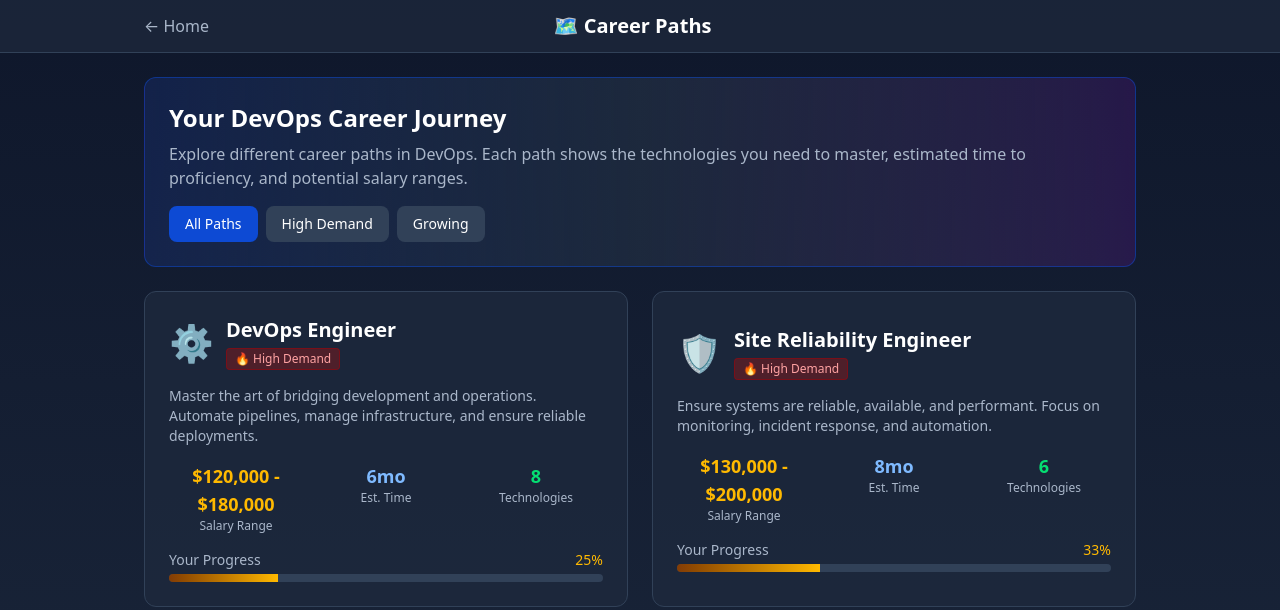
Scenario: CareerPathPage › pays a finished milestone through the modal claim button
The width and height of the screenshot is (1280, 610).
Step 1. Click the button that starts with "DevOps Engineer" → (386, 449), box [144, 291, 628, 607]
(page scrolled)
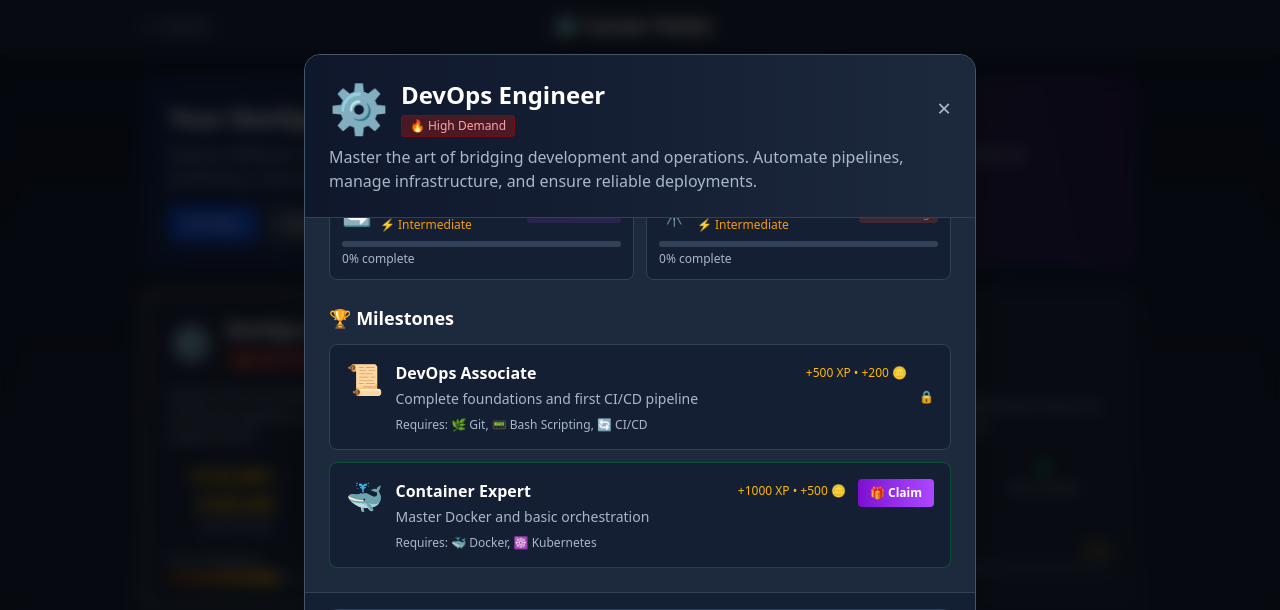
Step 2. Click the button "🎁 Claim" → (896, 493), box [858, 479, 934, 507]
(page scrolled)
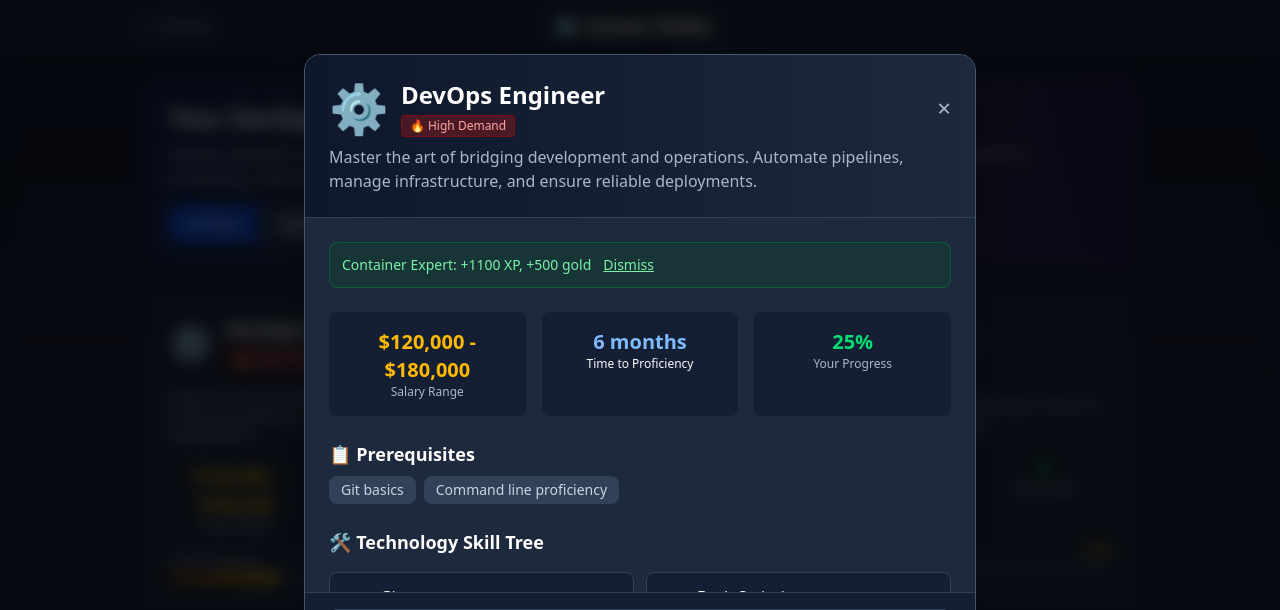
Step 3. Click the button "Dismiss" → (629, 265), box [603, 255, 654, 275]
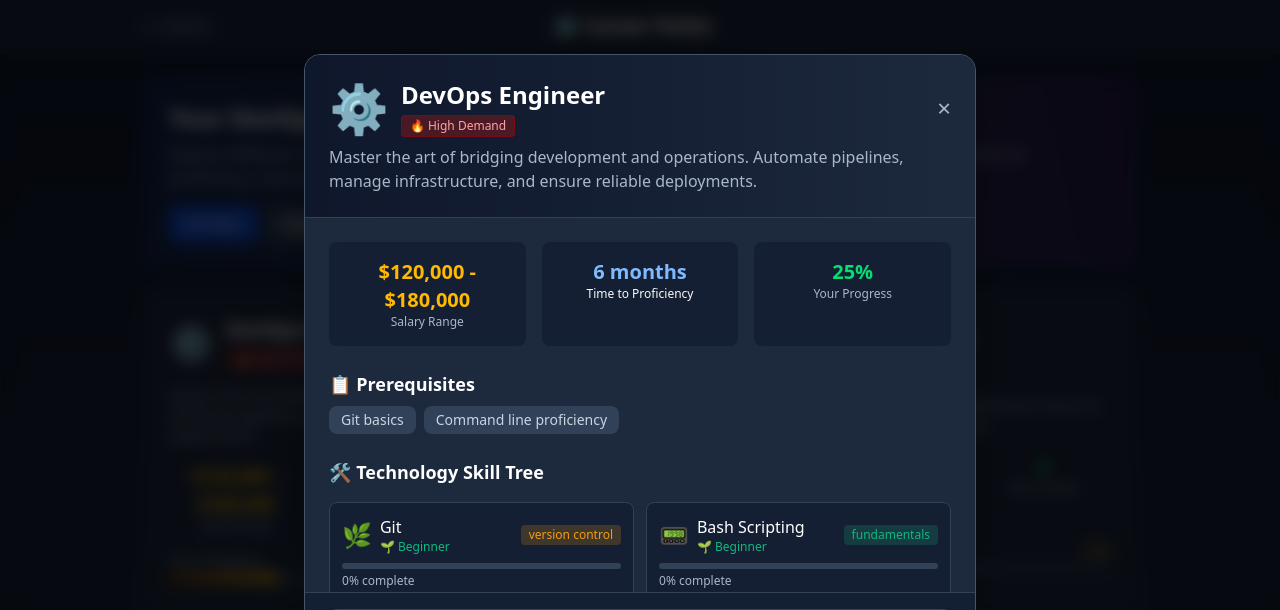
Expected: the message "Container Expert: +1100 XP, +500 gold Dismiss" is gone
